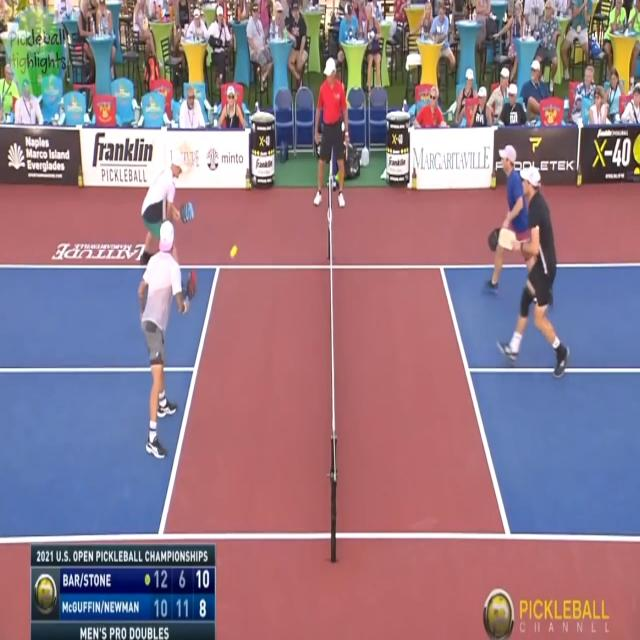ball: (226, 236, 243, 272)
